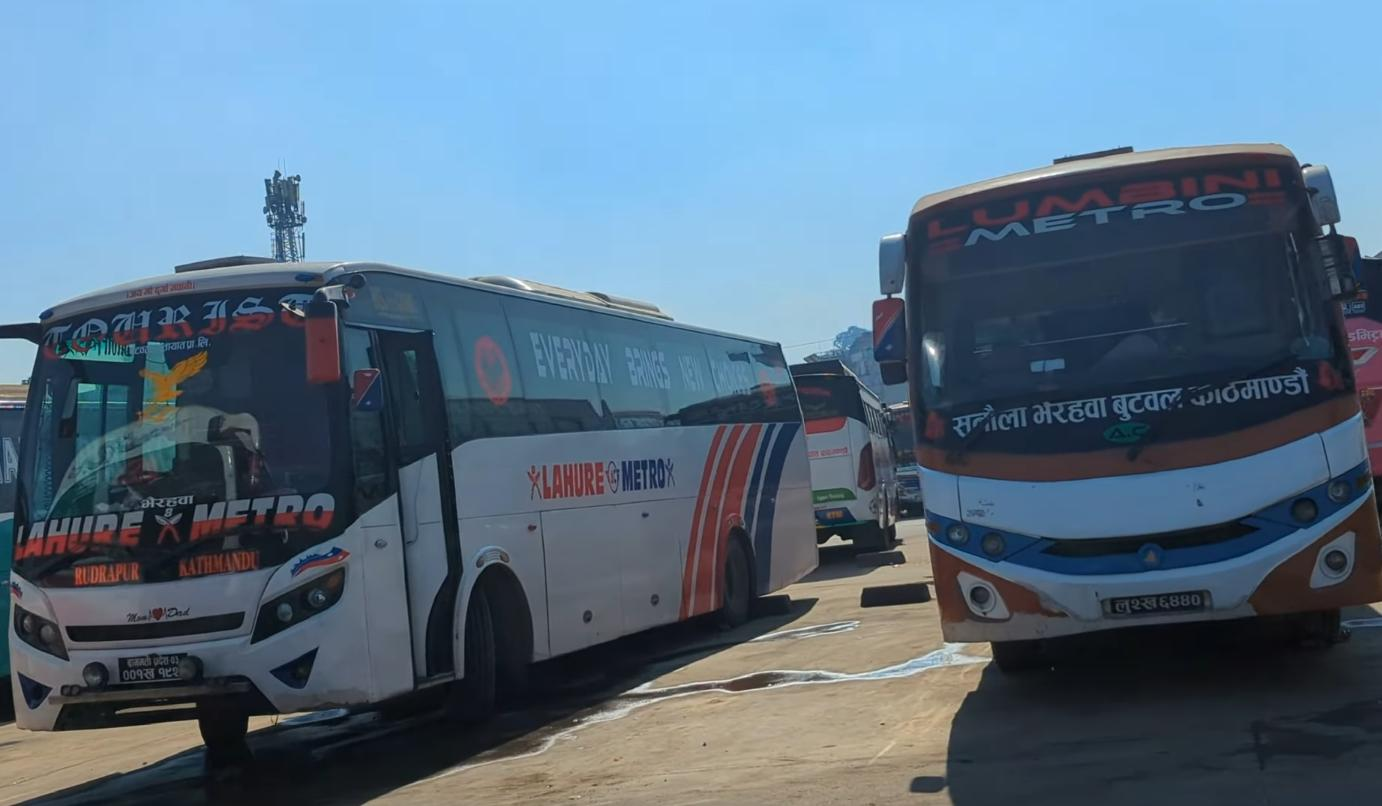bus: (6, 250, 828, 706), (898, 132, 1382, 654)
